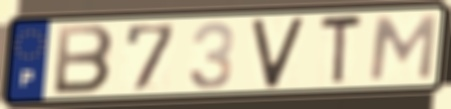3: (187, 19, 237, 91)
7: (122, 21, 179, 93)
B: (51, 23, 117, 97)
M: (366, 12, 440, 83)
T: (318, 12, 365, 89)
V: (249, 14, 307, 91)
